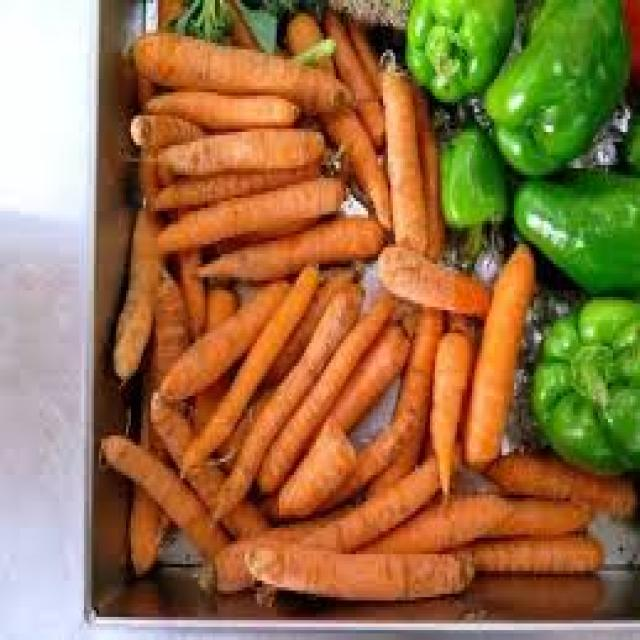food_waste: (128, 0, 637, 579)
